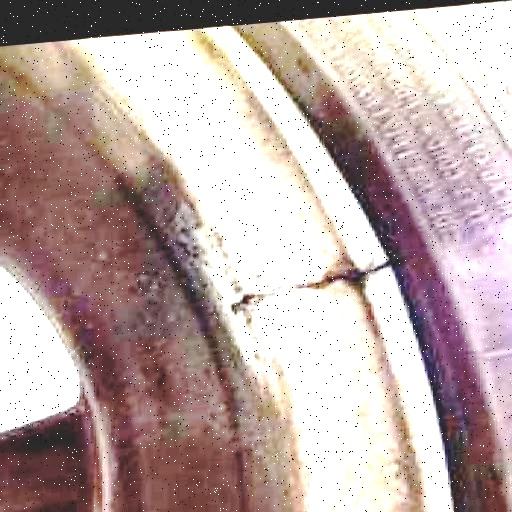crack: (201, 242, 393, 327)
